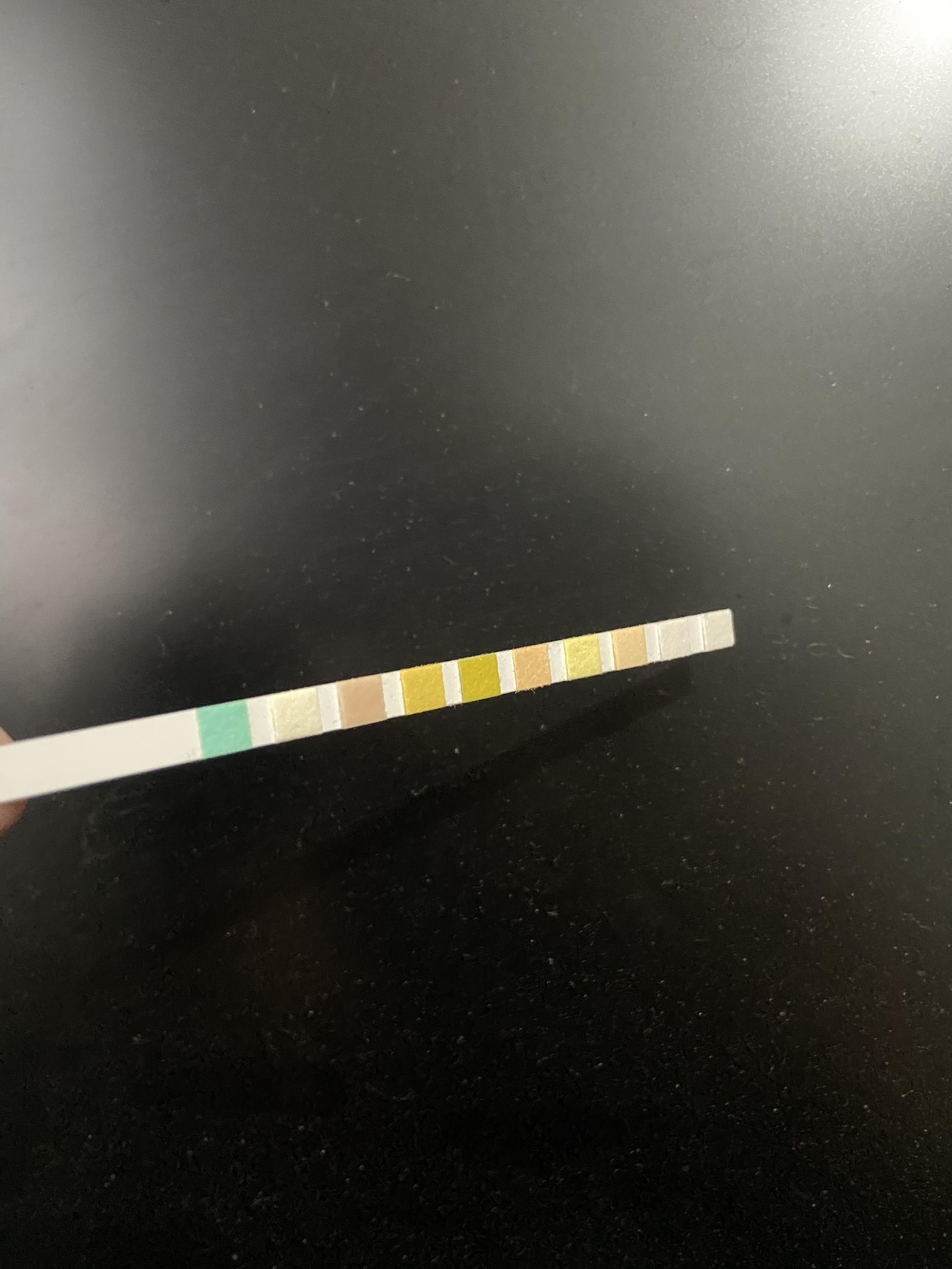Bilirubin: (275, 694, 317, 735)
Blood: (463, 659, 497, 696)
Glucose: (202, 708, 248, 750)
Ketone: (342, 681, 382, 720)
Leukocytes: (705, 614, 731, 646)
Nitrite: (661, 621, 687, 656)
Protein: (568, 639, 599, 675)
SpGravity: (406, 669, 442, 708)
Urobilinogen: (615, 630, 644, 665)
pH: (518, 648, 548, 685)
strip: (6, 608, 735, 801)
